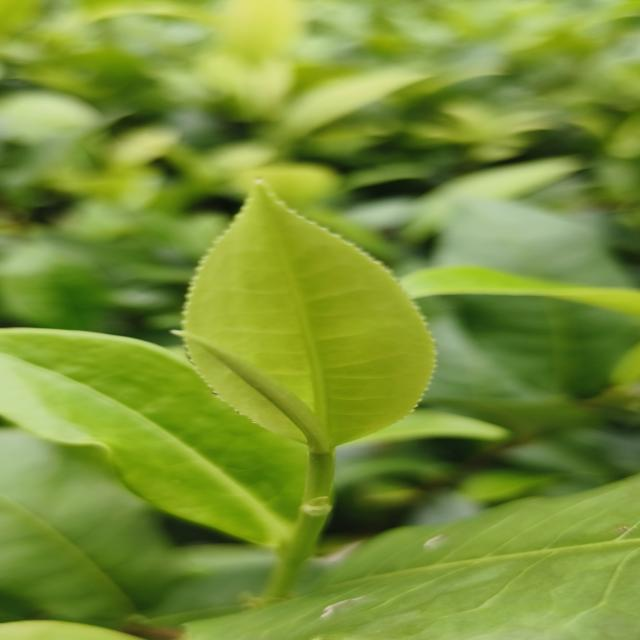Leaf: (187, 476, 640, 640), (0, 329, 306, 546), (183, 183, 434, 445), (0, 428, 181, 628), (456, 294, 640, 394), (436, 200, 628, 287), (400, 266, 640, 317), (186, 338, 303, 442), (281, 68, 426, 137), (0, 238, 105, 330)
